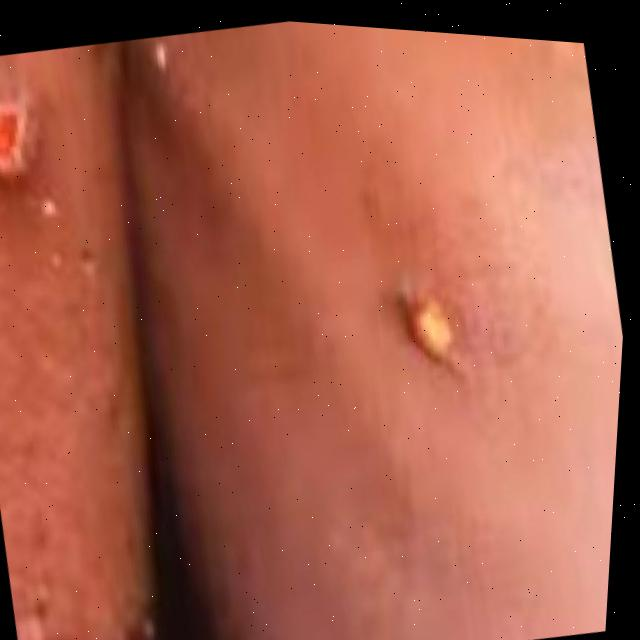Eczema: (415, 286, 503, 367), (0, 86, 29, 195), (12, 604, 76, 640), (550, 41, 586, 59)
